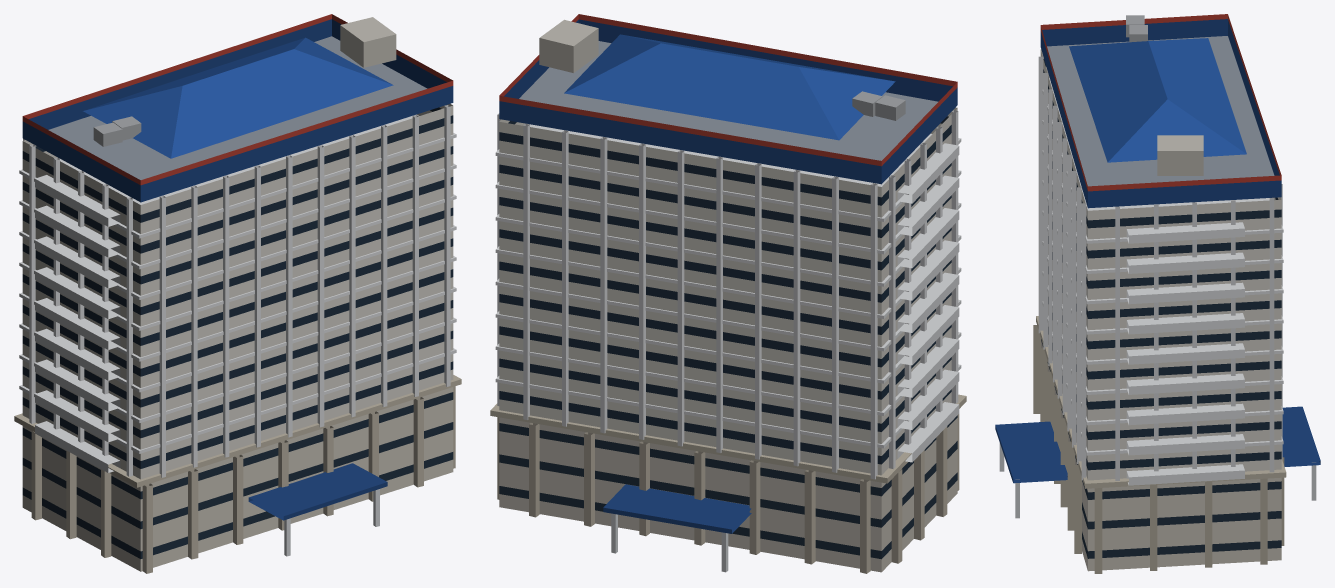
File: swiss-belinn-ska-lod0.glb
3 views of the same model, side by side, from view 1: azimuth 30°, elevation 25°; view 2: azimuth 150°, elevation 25°; view 3: azimuth 270°, elevation 25° (orthographic). The views are drawn at different scales.
Parts seen in each view (by area): view 1: swiss-belinn-ska_LOD0; view 2: swiss-belinn-ska_LOD0; view 3: swiss-belinn-ska_LOD0.
Boxes of the visible parts, x1,y1,x2,y2 form: swiss-belinn-ska_LOD0: (14,14,461,573); swiss-belinn-ska_LOD0: (490,14,966,573); swiss-belinn-ska_LOD0: (995,14,1320,573).
Size of the model in its own units: 46.17 by 49.4 by 35.11.
